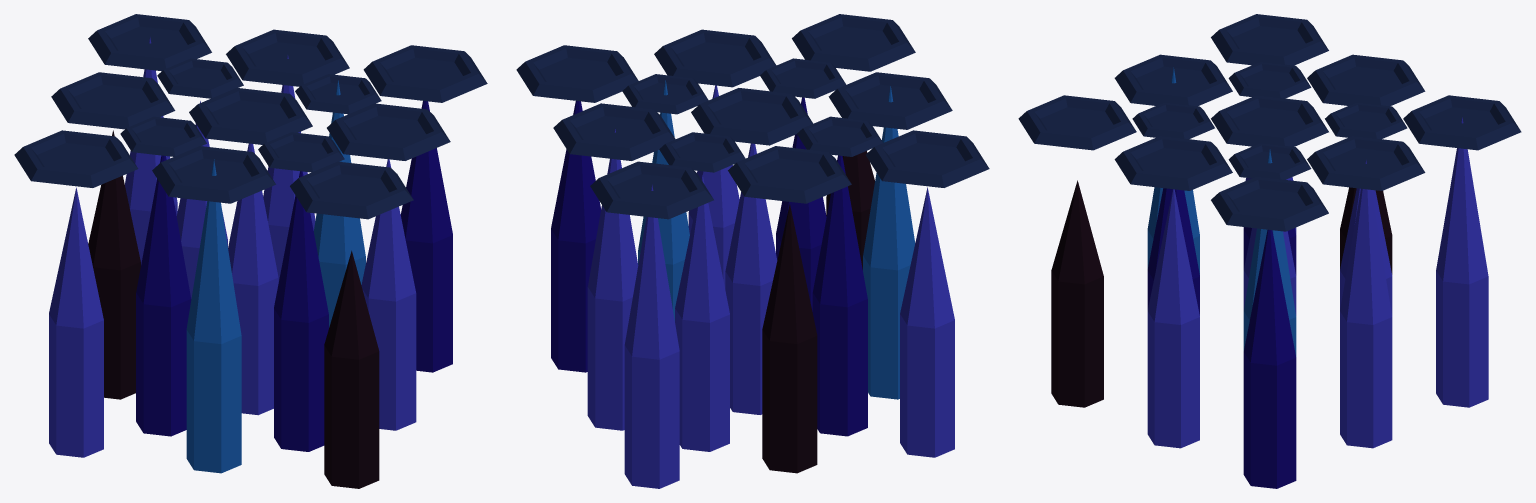
Rendered from Spikes_0_0.fbx.
The picture shows the model from 3 angles, left to right: view 1: azimuth 30°, elevation 25°; view 2: azimuth 150°, elevation 25°; view 3: azimuth 270°, elevation 25°; orthographic projection. The views are drawn at different scales.
Parts seen in each view (by area): view 1: Spikes, Spikes_0_0; view 2: Spikes, Spikes_0_0; view 3: Spikes, Spikes_0_0.
Part boxes in pixels (left/top/right/bottom): Spikes: left=49, top=37, right=452, bottom=488; Spikes_0_0: left=14, top=14, right=487, bottom=219; Spikes: left=551, top=80, right=954, bottom=488; Spikes_0_0: left=516, top=14, right=989, bottom=219; Spikes: left=1051, top=67, right=1488, bottom=488; Spikes_0_0: left=1018, top=14, right=1521, bottom=231.
Size of the model in its own units: 1.11 by 0.7037 by 1.11.
Materials: 1 (1 with a texture image).
